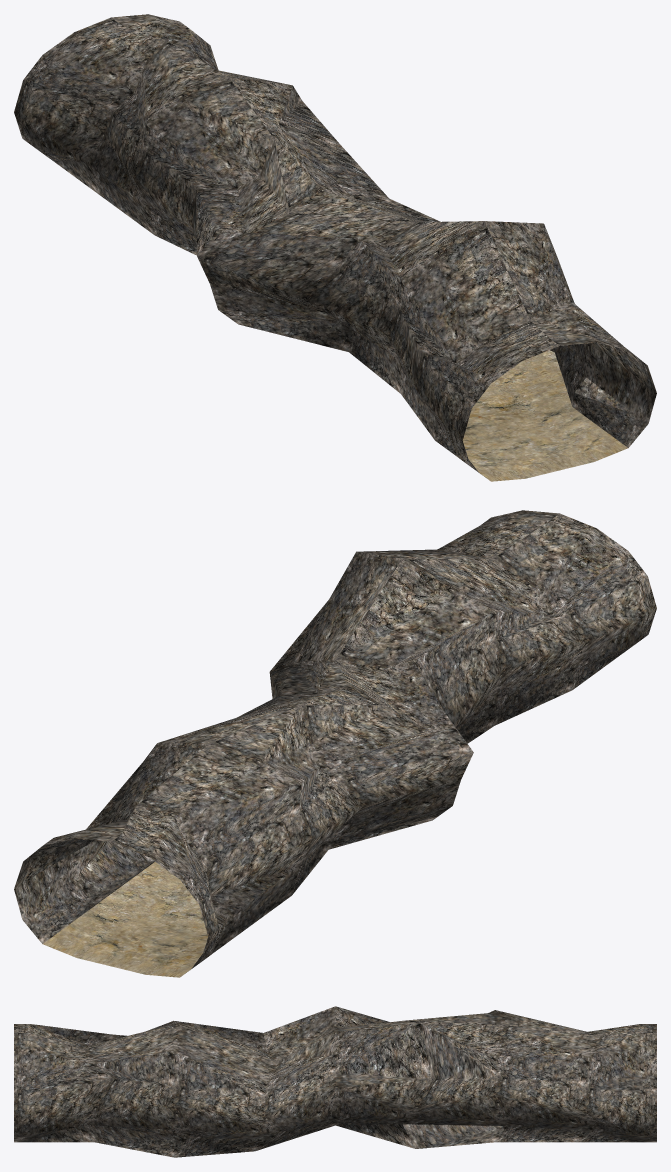
The model's file is pir_m_are_cav_hallNarrow200.fbx.
3 renders of one model, top to bottom at view 1: azimuth 30°, elevation 25°; view 2: azimuth 150°, elevation 25°; view 3: azimuth 270°, elevation 25°, orthographic. The views are drawn at different scales.
Parts seen in each view (by area): view 1: hallNarrow200_wall, hallNarrow200_floor; view 2: hallNarrow200_wall, hallNarrow200_floor; view 3: hallNarrow200_wall.
Part boxes in pixels (box(x1,y1,x2,y2)): hallNarrow200_wall: box(14, 14, 656, 472); hallNarrow200_floor: box(462, 350, 628, 481); hallNarrow200_wall: box(14, 510, 656, 968); hallNarrow200_floor: box(42, 862, 208, 977); hallNarrow200_wall: box(14, 1006, 656, 1157).
Size of the model in its own units: 6606 by 3786 by 20000.
Materials: 2 (2 with a texture image).
